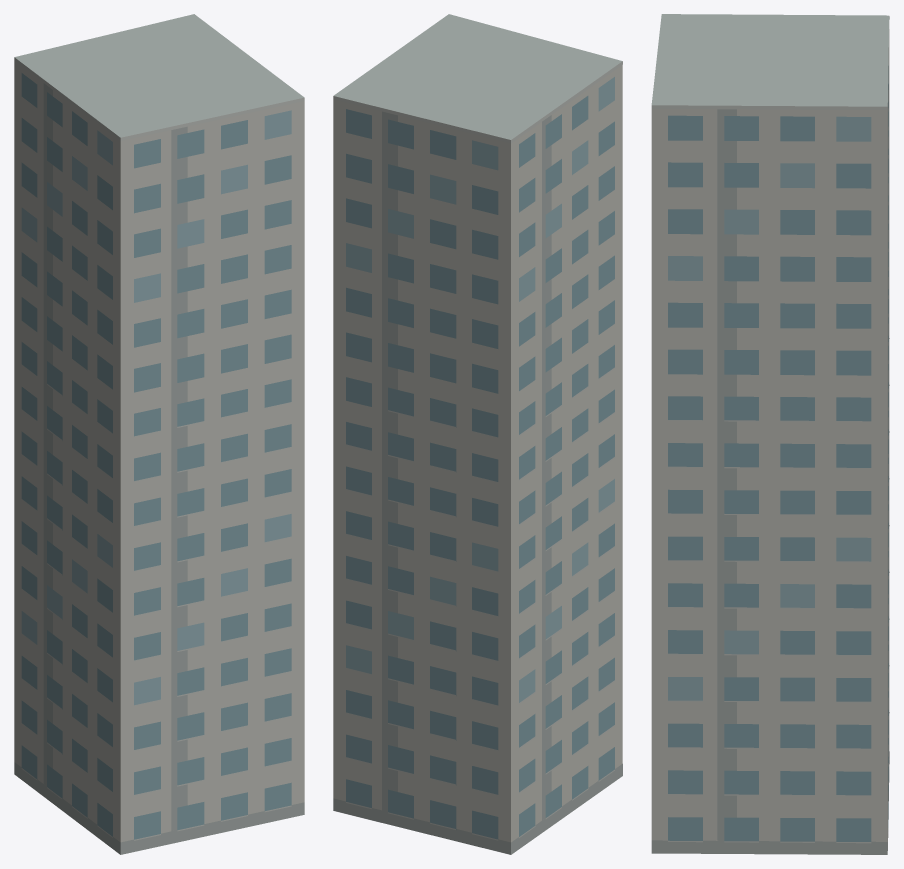
Rendered from residential-60dfa886-df35-4930-ae1c-56b51bfa05df.glb.
3 renders of one model, left to right at view 1: azimuth 30°, elevation 25°; view 2: azimuth 150°, elevation 25°; view 3: azimuth 270°, elevation 25°, orthographic. The views are drawn at different scales.
Parts seen in each view (by area): view 1: residential-60dfa886-df35-4930-ae1c-56b51bfa05df.tmp; view 2: residential-60dfa886-df35-4930-ae1c-56b51bfa05df.tmp; view 3: residential-60dfa886-df35-4930-ae1c-56b51bfa05df.tmp.
Part boxes in pixels (x1,y1,x2,y2): residential-60dfa886-df35-4930-ae1c-56b51bfa05df.tmp: (14, 14, 304, 854); residential-60dfa886-df35-4930-ae1c-56b51bfa05df.tmp: (333, 14, 622, 854); residential-60dfa886-df35-4930-ae1c-56b51bfa05df.tmp: (651, 14, 889, 854).
Size of the model in its own units: 13.3 by 50 by 14.42.
